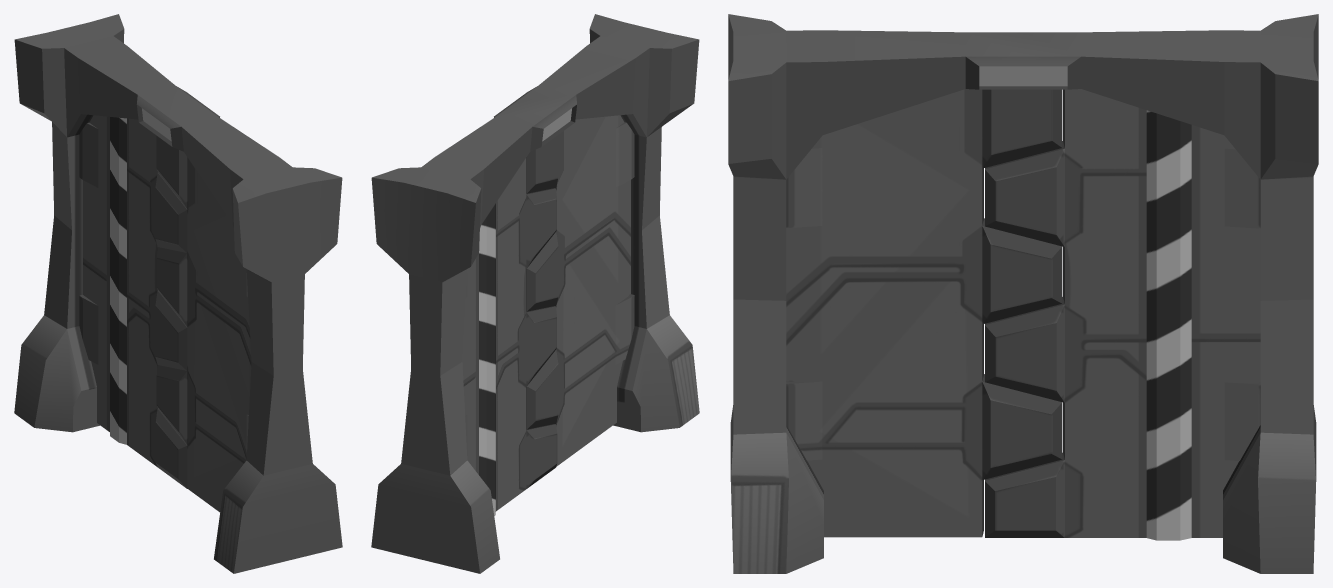
The model's file is Space_Door.fbx.
3 renders of one model, left to right at view 1: azimuth 30°, elevation 25°; view 2: azimuth 150°, elevation 25°; view 3: azimuth 270°, elevation 25°, orthographic. The views are drawn at different scales.
Visible parts, largest first — view 1: side_5, pCube6, pCube5; view 2: side_5, pCube5, pCube6; view 3: side_5, pCube6, pCube5.
Boxes of the visible parts, x1,y1,x2,y2 form: side_5: (14,14,342,573); pCube6: (79,115,187,488); pCube5: (156,136,251,512); side_5: (371,14,699,573); pCube5: (526,115,634,466); pCube6: (462,158,557,515); side_5: (728,14,1318,573); pCube6: (985,89,1260,540); pCube5: (786,89,1062,537).
Bounding box in the file's own units: 91.89 × 302 × 326.
2 materials, 2 textured.
